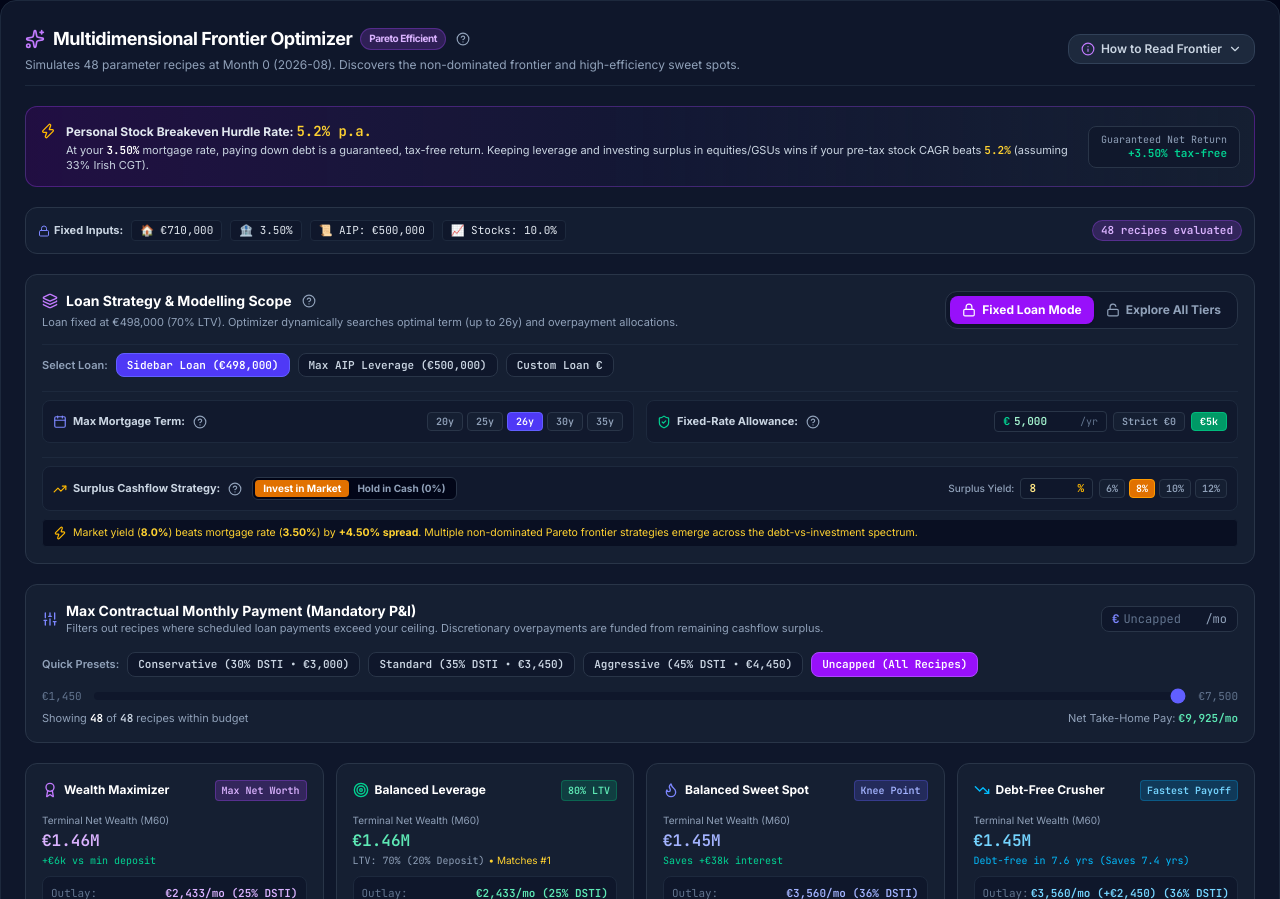
Test: FrontierOptimizerCard Component & Custom Loan Reproduction › toggles between Fixed Loan Mode and Explore All Tiers mode
Click the button "Explore All Tiers" at (1163, 310), box [1094, 296, 1233, 324]
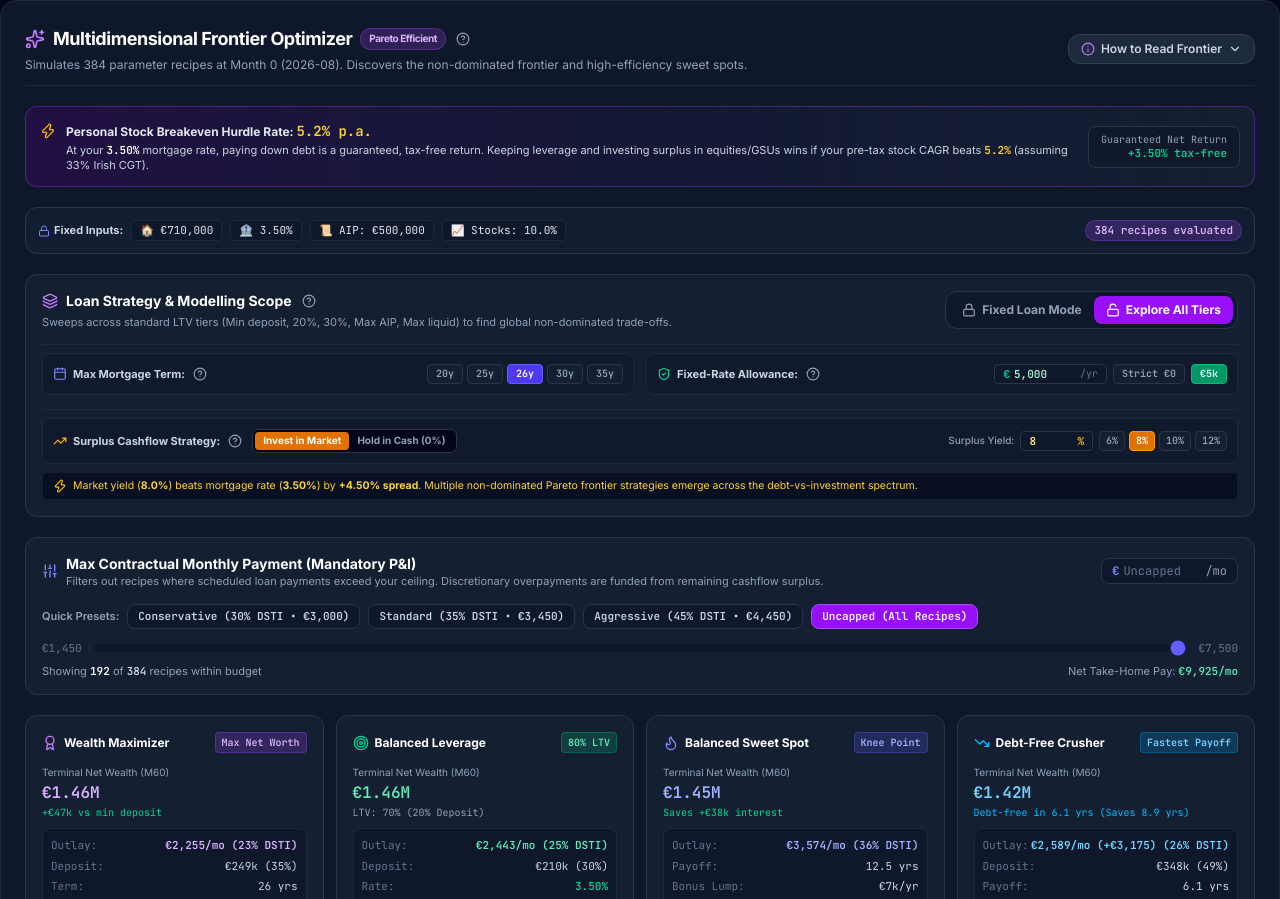
Result: the text "Sweeps across standard LTV tiers" is shown at [42, 315, 672, 329]
Click the button "Fixed Loan Mode" at (1022, 310), box [950, 296, 1094, 324]
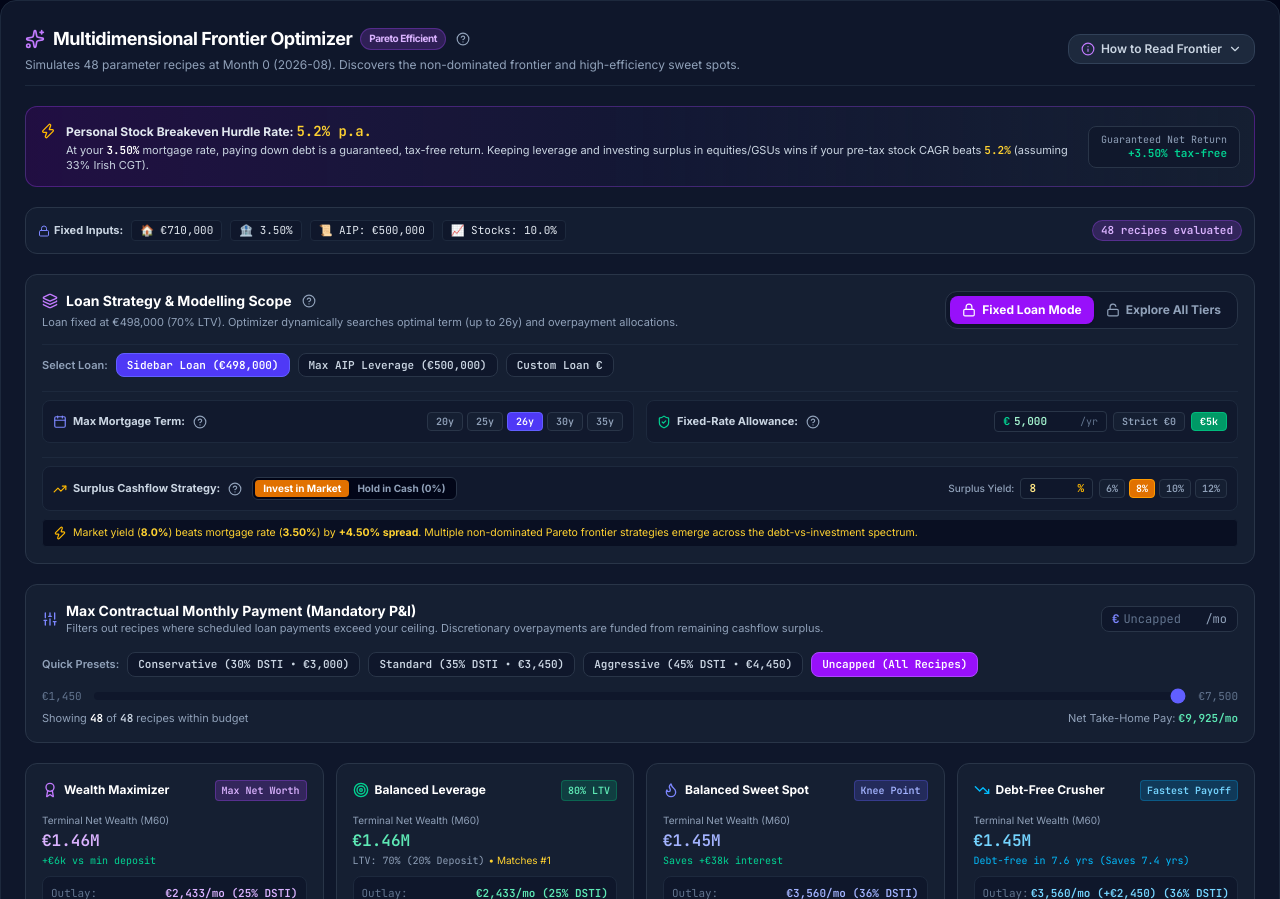
Result: the text "Loan fixed at €498,000 (70% LTV)" is shown at [42, 315, 678, 329]
